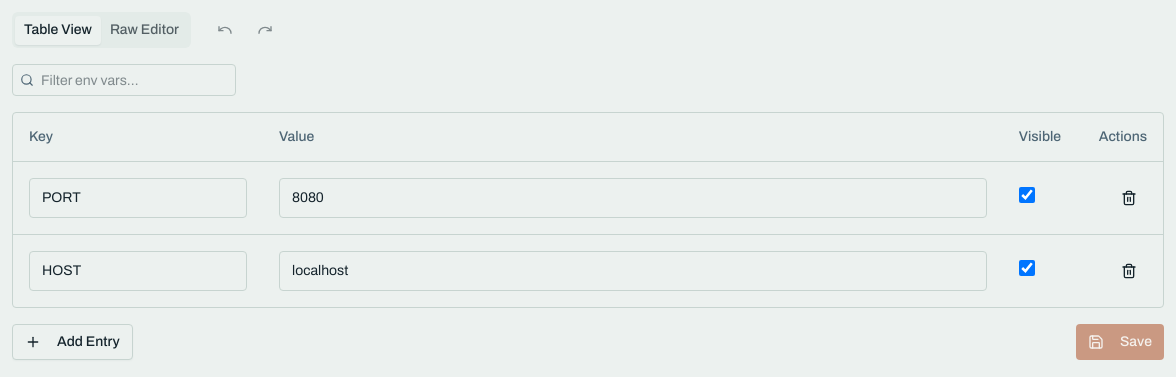
Test: EnvEditor entry editing › filters rows via the search input and shows a no-matches hint
Type "host" into the field with placeholder "Filter env vars…". click: coordinates (124, 80)
box: [12,64,236,96]
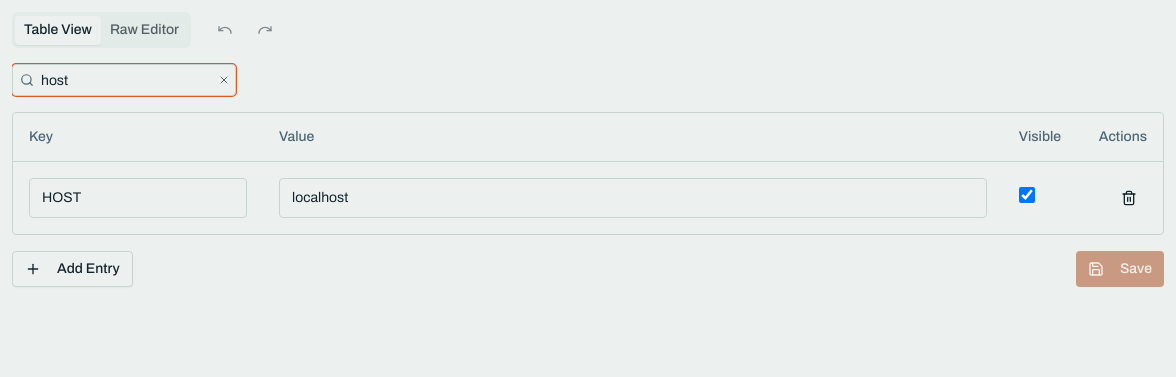
Check: the number of fields showing "localhost" is 2
Replace the text in the field with placeholder "Filter env vars…" with "nomatch". click: coordinates (124, 80)
box: [12,64,236,96]
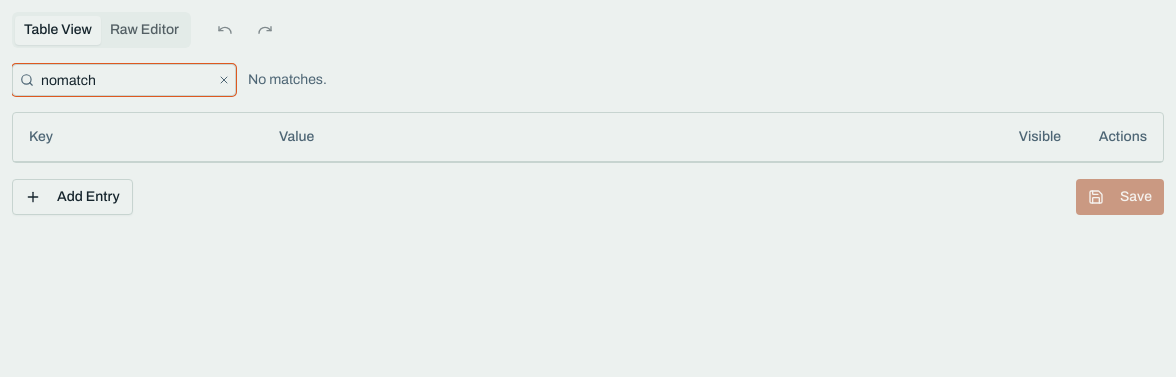
Check: the text "No matches." is shown, box [248,70,327,90]
